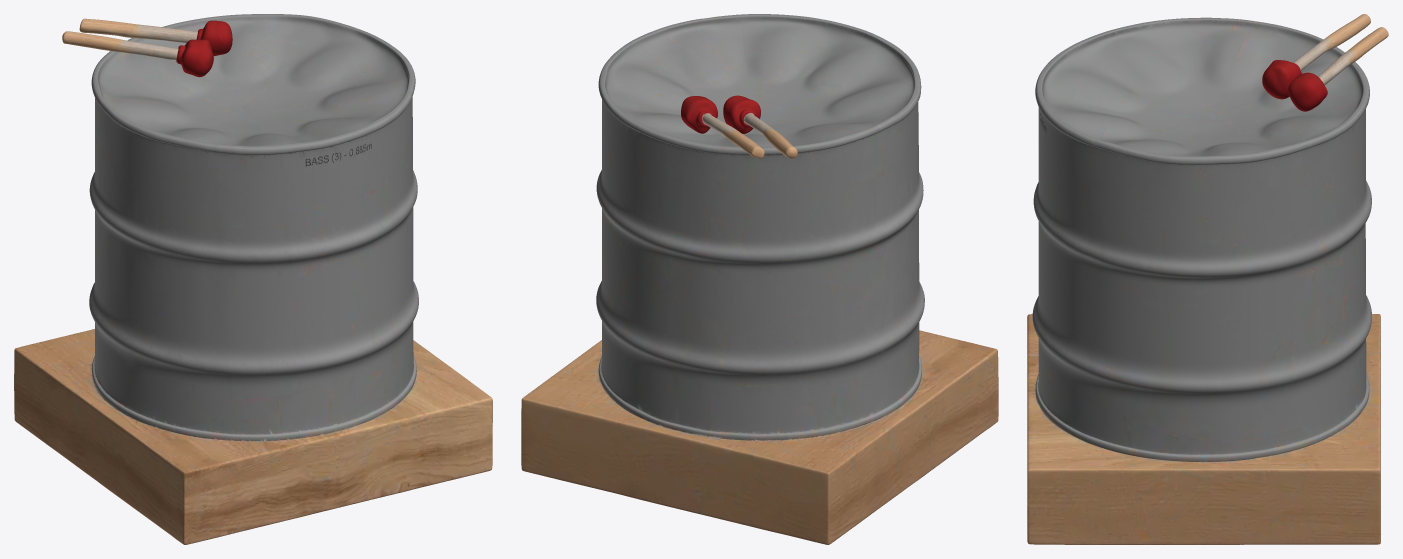
File: BASS-optimized.glb
The picture shows the model from 3 angles, left to right: view 1: azimuth 30°, elevation 25°; view 2: azimuth 150°, elevation 25°; view 3: azimuth 270°, elevation 25°; orthographic projection. The views are drawn at different scales.
Visible parts, largest first — view 1: mesh_node; view 2: mesh_node; view 3: mesh_node.
Boxes of the visible parts, x1,y1,x2,y2 form: mesh_node: [14, 14, 492, 544]; mesh_node: [521, 14, 998, 544]; mesh_node: [1027, 14, 1388, 544].
Bounding box in the file's own units: 1.6 × 1.9 × 1.57.
1 material, 1 textured.
